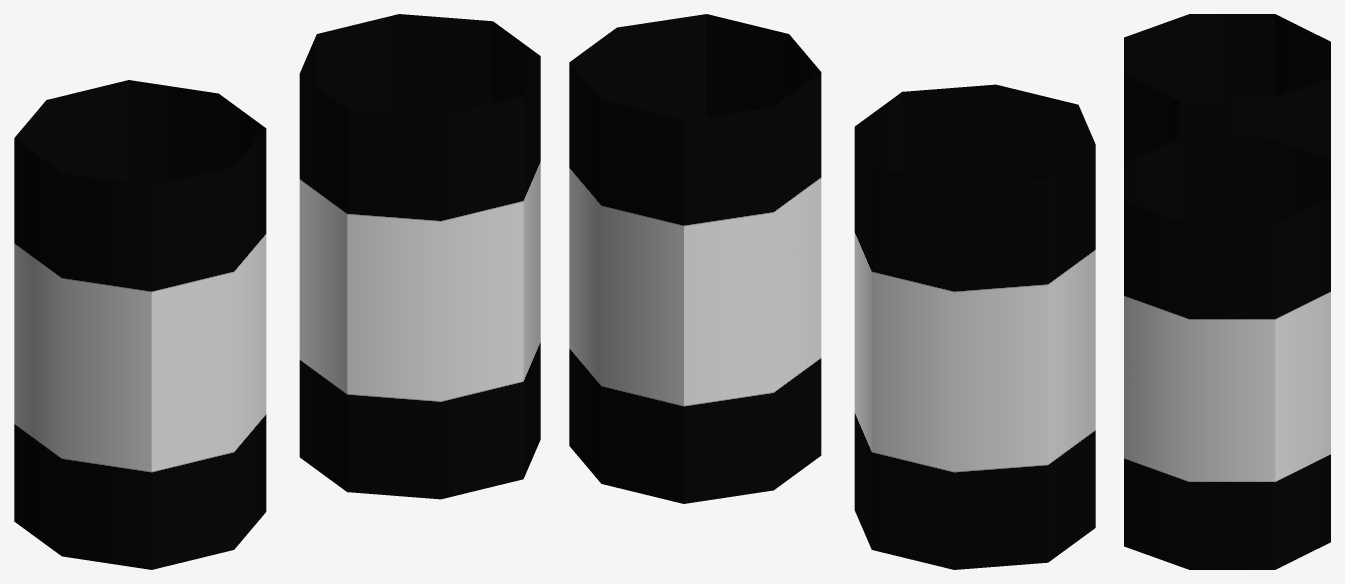
File: yanjiusuo_sao02.FBX
3 renders of one model, left to right at view 1: azimuth 30°, elevation 25°; view 2: azimuth 150°, elevation 25°; view 3: azimuth 270°, elevation 25°, orthographic. The views are drawn at different scales.
Visible parts, largest first — view 1: yanjiusuo_sao02; view 2: yanjiusuo_sao02; view 3: yanjiusuo_sao02.
Part boxes in pixels (<box>): yanjiusuo_sao02: <box>14,14,540,569</box>; yanjiusuo_sao02: <box>569,14,1095,569</box>; yanjiusuo_sao02: <box>1124,14,1330,569</box>.
Bounding box in the file's own units: 167 × 69.21 × 128.
